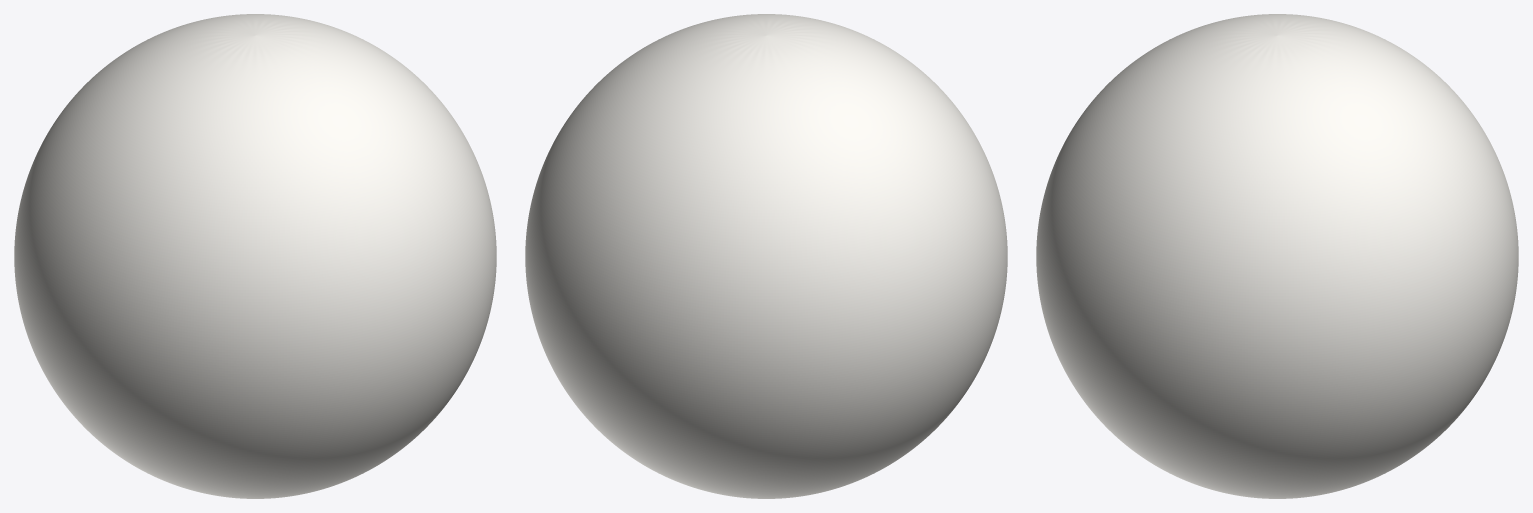
File: silver_sphere.glb
The picture shows the model from 3 angles, left to right: view 1: azimuth 30°, elevation 25°; view 2: azimuth 150°, elevation 25°; view 3: azimuth 270°, elevation 25°; orthographic projection.
Visible parts, largest first — view 1: Sphere; view 2: Sphere; view 3: Sphere.
Boxes of the visible parts, x1,y1,x2,y2 form: Sphere: (14,14,496,498); Sphere: (525,14,1007,498); Sphere: (1036,14,1518,498).
Bounding box in the file's own units: 1.97 × 2 × 1.97.
Materials: 1 (1 with a texture image).
